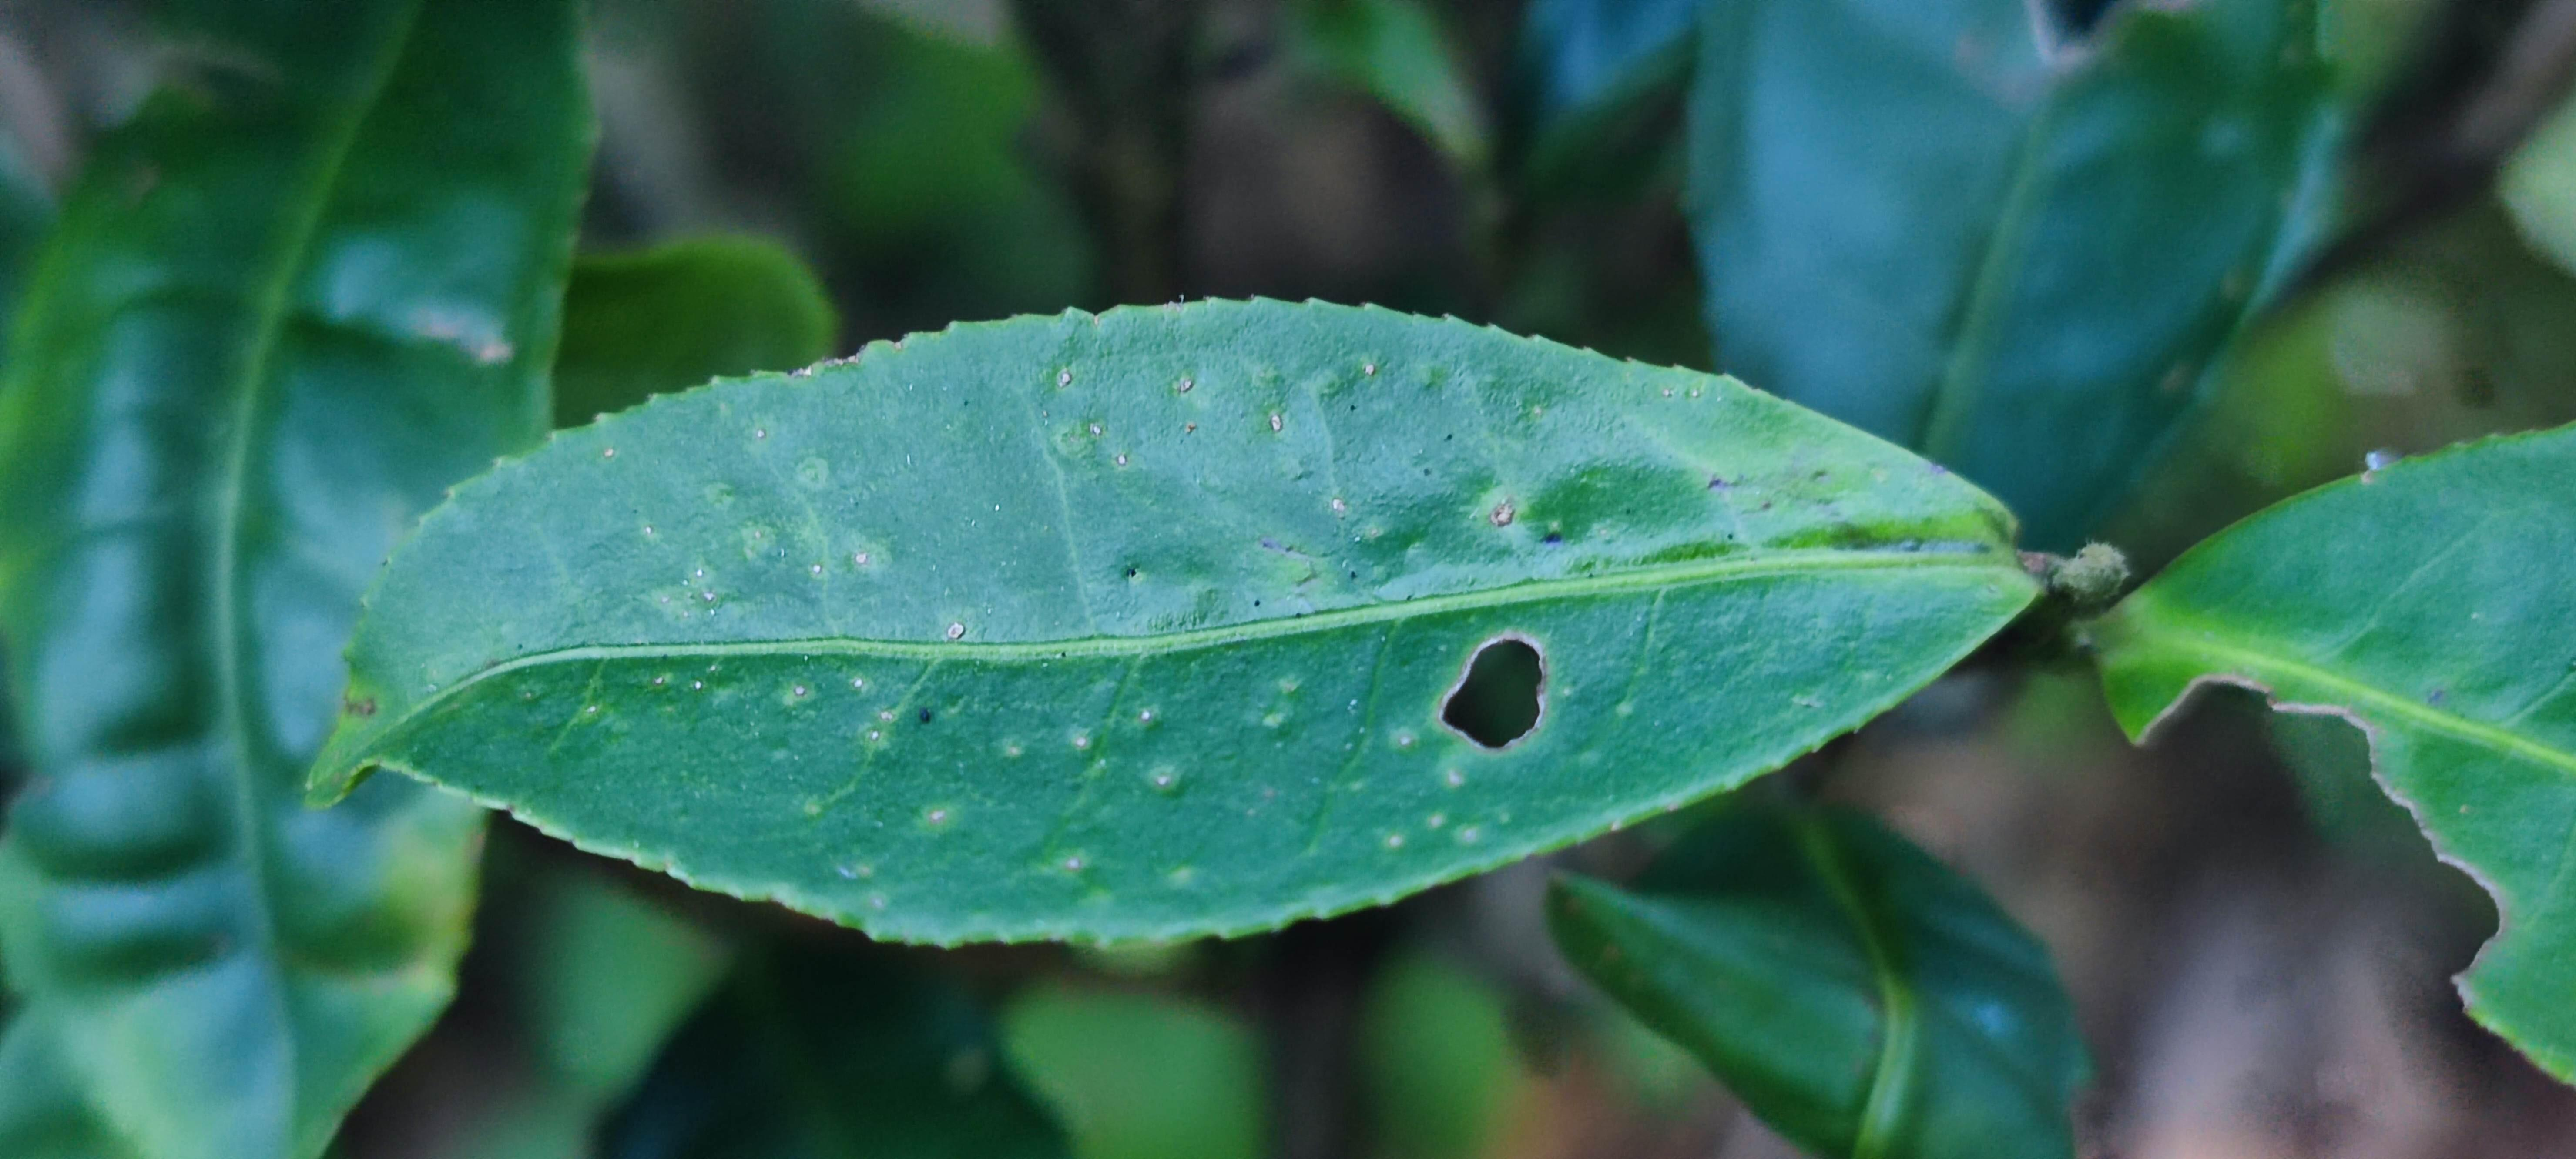chihuo_high: (2083, 419, 2576, 1085)
chihuo_low: (299, 291, 2047, 960)
